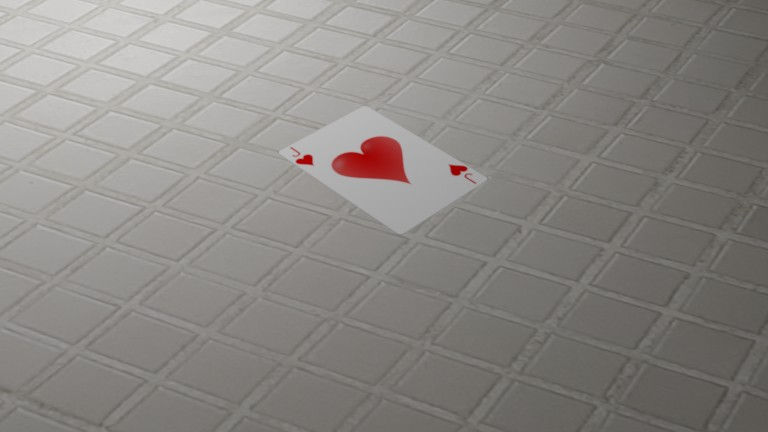jack_of_hearts: (440, 160, 486, 188), (279, 144, 323, 171)
